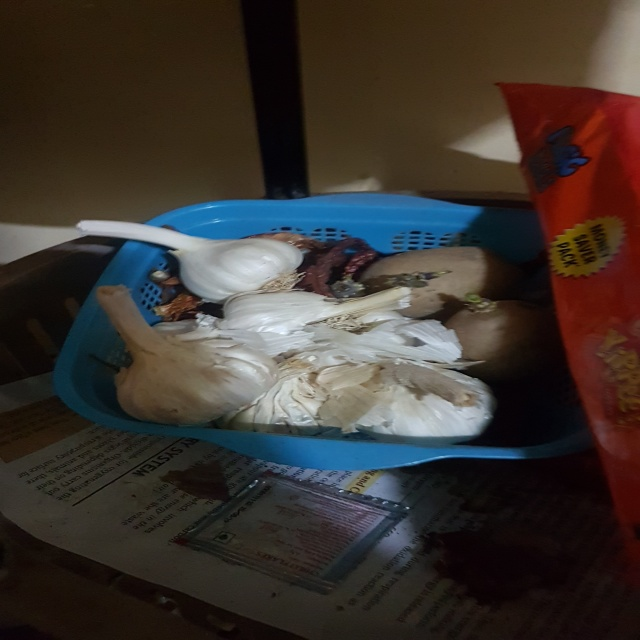garlic: (86, 271, 297, 433), (67, 204, 320, 296), (336, 350, 499, 454)
